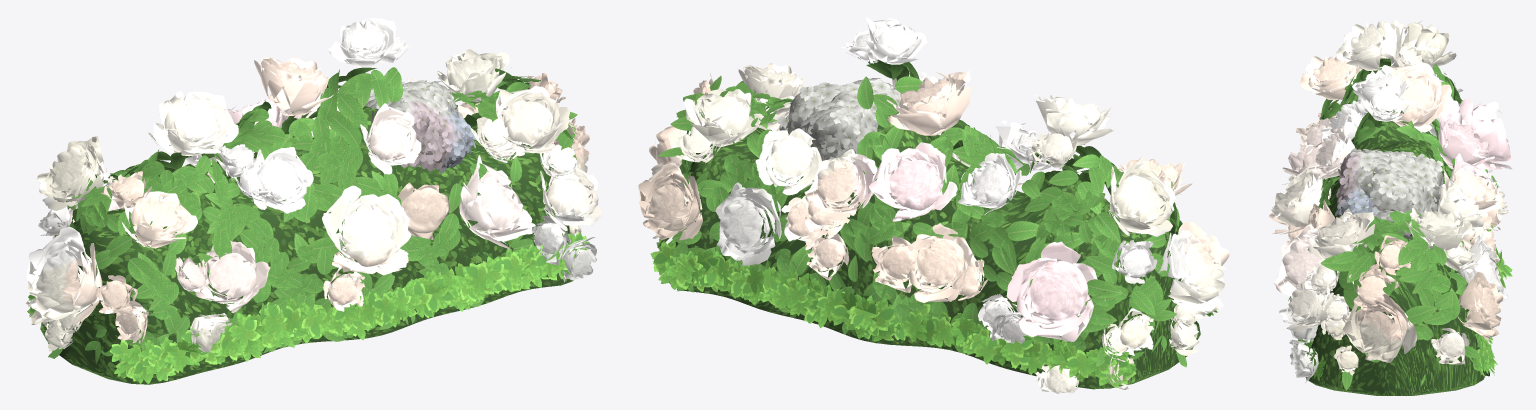
Rendered from FlowerBank_1m_sample_A_1002_v4.glb.
3 renders of one model, left to right at view 1: azimuth 30°, elevation 25°; view 2: azimuth 150°, elevation 25°; view 3: azimuth 270°, elevation 25°, orthographic. The views are drawn at different scales.
Visible parts, largest first — view 1: FlowerBank_1m; view 2: FlowerBank_1m; view 3: FlowerBank_1m.
Boxes of the visible parts, x1,y1,x2,y2 form: FlowerBank_1m: (26,18,602,384); FlowerBank_1m: (638,17,1229,393); FlowerBank_1m: (1269,19,1512,395).
Size of the model in its own units: 1.28 by 0.5736 by 0.5706.
Materials: 7 (6 with a texture image).
